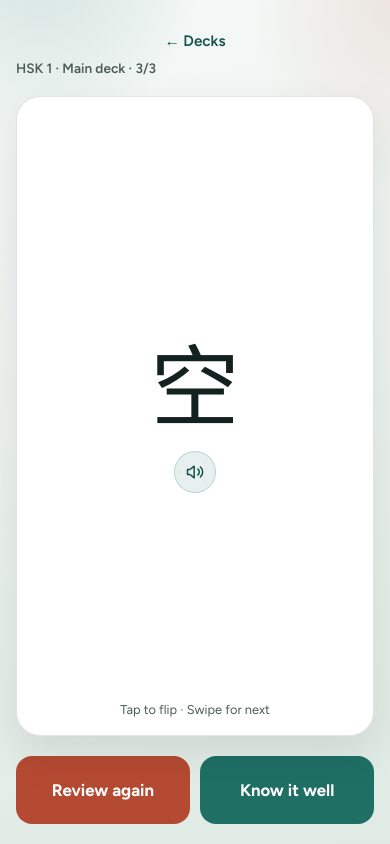
Test: StudySession v1 › hides English speaker when meaning is empty
Click the button with aria-label "Show pinyin and meaning" at (195, 416), box [16,96,374,736]
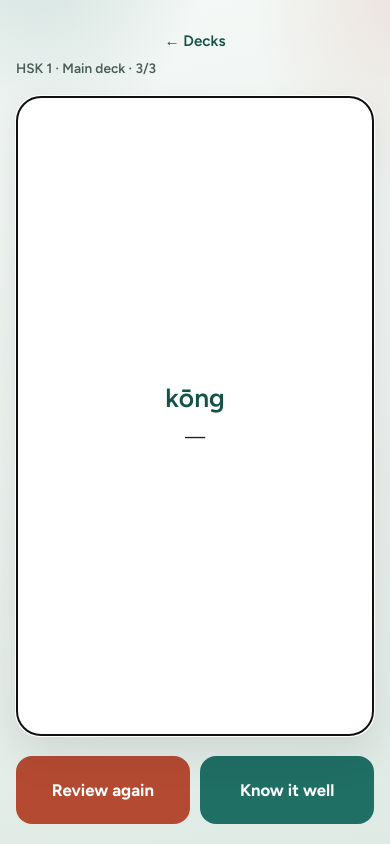
Check: the text "—" is shown, box [185,424,205,450]
